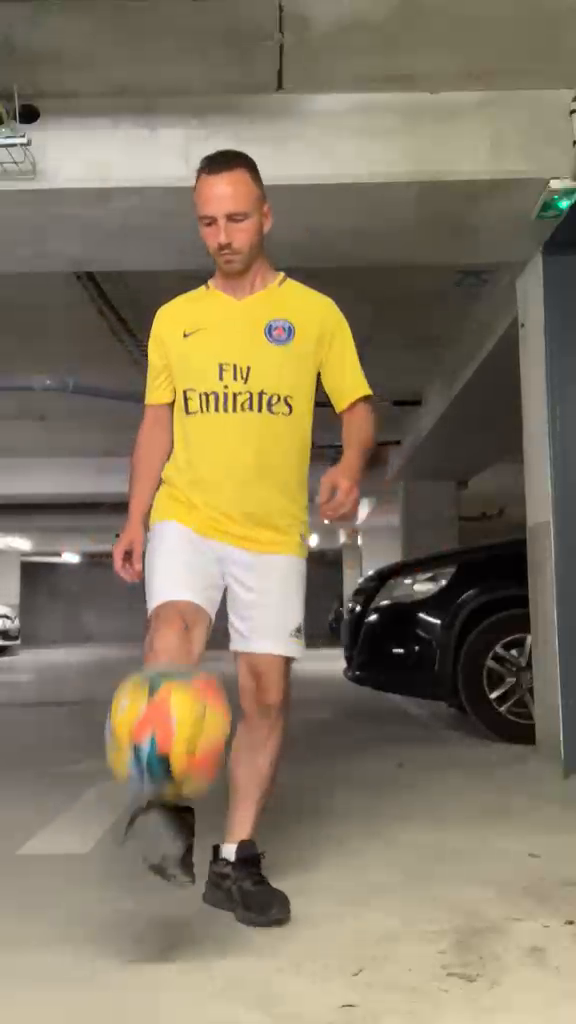ball: (69, 671, 183, 784)
